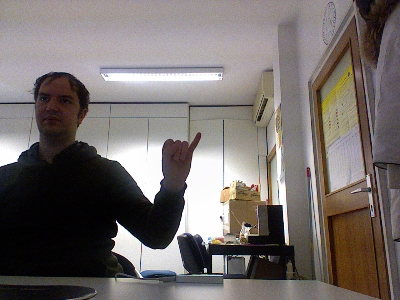小指: (160, 130, 203, 185)
